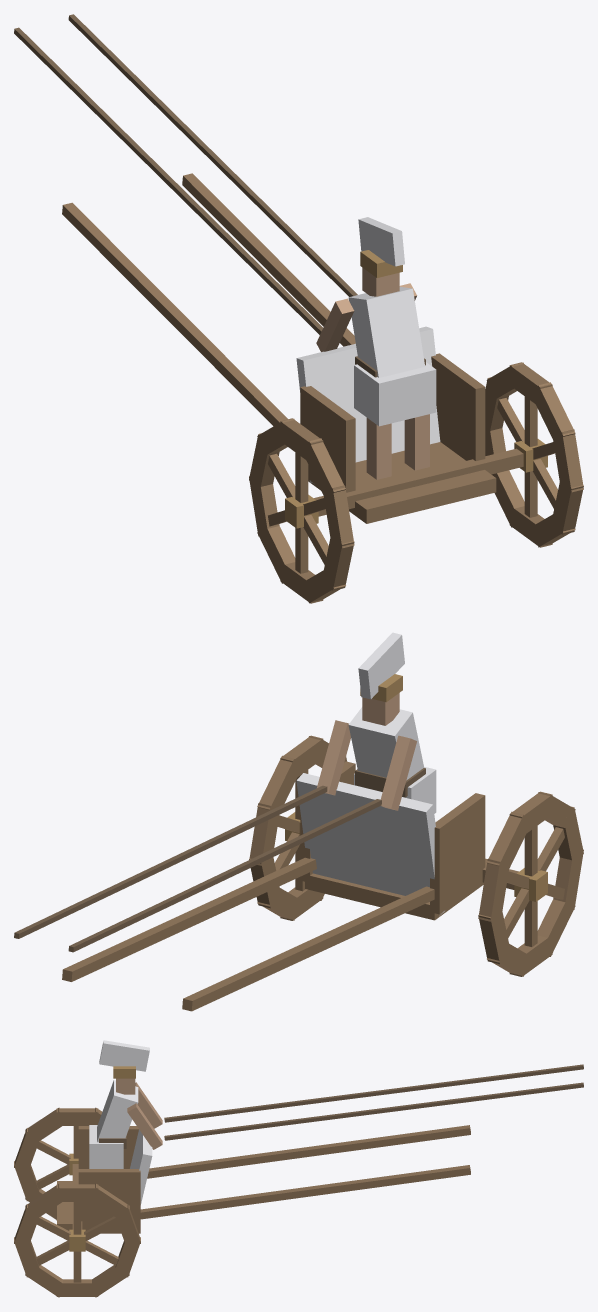
Rendered from racing_chariot.glb.
3 views of the same model, one above another, from view 1: azimuth 30°, elevation 25°; view 2: azimuth 150°, elevation 25°; view 3: azimuth 270°, elevation 25° (orthographic). The views are drawn at different scales.
Parts seen in each view (by area): view 1: Car, Charioteer, WheelL, WheelR; view 2: Car, WheelL, Charioteer, WheelR; view 3: Car, WheelR, Charioteer, WheelL.
Boxes of the visible parts, x1,y1,x2,y2 form: Car: [14, 14, 523, 523]; Charioteer: [316, 217, 436, 479]; WheelL: [249, 418, 354, 603]; WheelR: [485, 362, 583, 547]; Car: [14, 761, 518, 1011]; WheelL: [478, 791, 583, 976]; Charioteer: [317, 632, 436, 813]; WheelR: [249, 735, 346, 920]; Car: [57, 1064, 583, 1233]; WheelR: [14, 1184, 140, 1297]; Charioteer: [89, 1040, 162, 1168]; WheelL: [14, 1107, 102, 1220].
Bounding box in the file's own units: 1.84 × 2.22 × 5.32.
